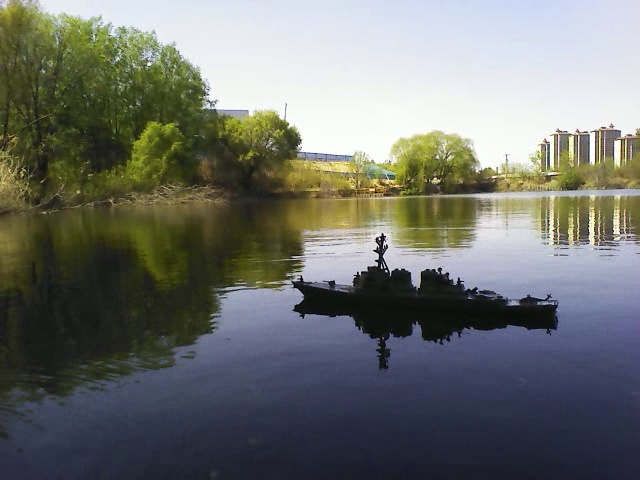warship: (283, 233, 561, 330)
